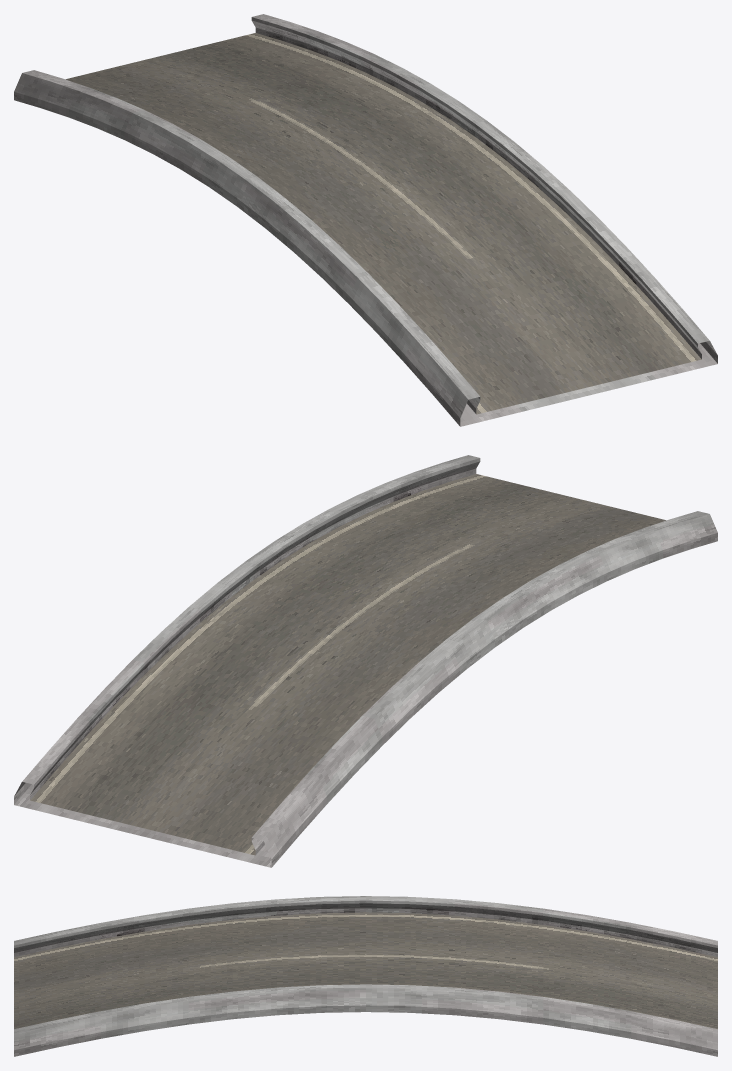
The model's file is straight3.glb.
3 renders of one model, top to bottom at view 1: azimuth 30°, elevation 25°; view 2: azimuth 150°, elevation 25°; view 3: azimuth 270°, elevation 25°, orthographic. The views are drawn at different scales.
Parts seen in each view (by area): view 1: road-Straight-BiSlopeUp-BiSlopeDown-Even-Center-Size3; view 2: road-Straight-BiSlopeUp-BiSlopeDown-Even-Center-Size3; view 3: road-Straight-BiSlopeUp-BiSlopeDown-Even-Center-Size3.
Part boxes in pixels (x1,y1,x2,y2): road-Straight-BiSlopeUp-BiSlopeDown-Even-Center-Size3: [14, 14, 717, 426]; road-Straight-BiSlopeUp-BiSlopeDown-Even-Center-Size3: [14, 455, 717, 867]; road-Straight-BiSlopeUp-BiSlopeDown-Even-Center-Size3: [14, 896, 717, 1056].
Bounding box in the file's own units: 1 × 0.3047 × 3.
Materials: 2 (2 with a texture image).
